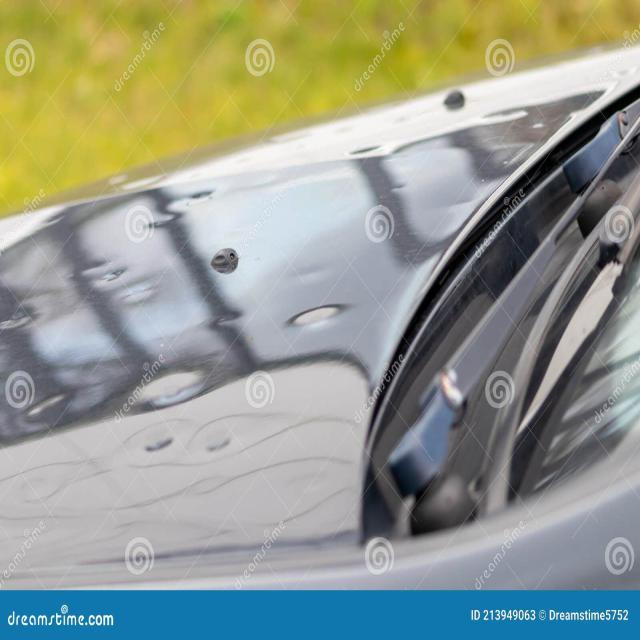dent: (282, 302, 349, 327), (71, 256, 131, 281), (208, 306, 244, 329), (296, 264, 327, 282), (147, 433, 174, 453), (349, 142, 383, 155), (192, 189, 216, 201), (46, 211, 65, 223), (388, 182, 406, 191)
